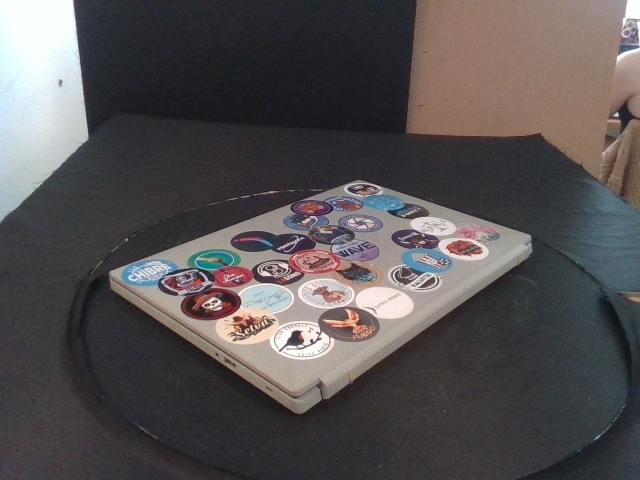laptop: (108, 179, 533, 414)
